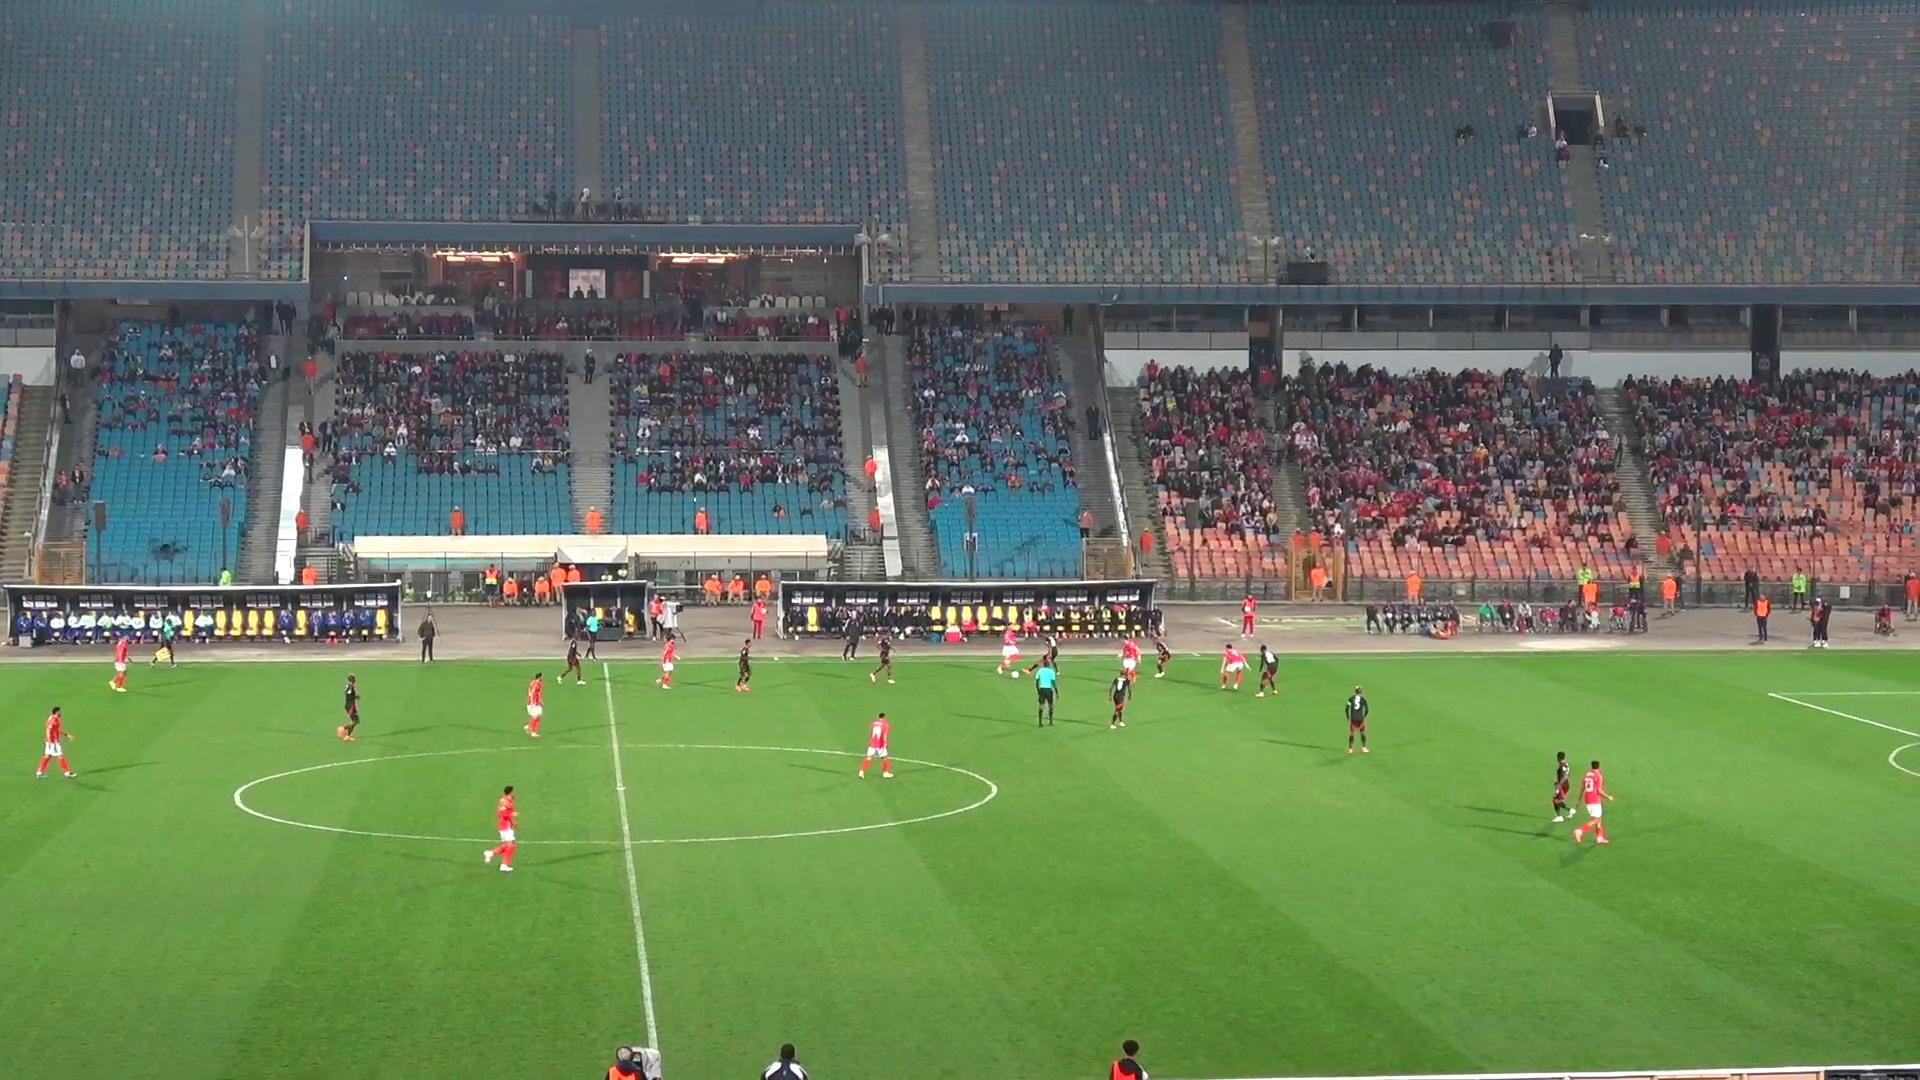Refree: (1026, 655, 1058, 727), (153, 611, 178, 665)
Team1: (1571, 760, 1610, 843), (483, 785, 517, 872), (34, 707, 76, 775), (858, 712, 893, 777), (524, 673, 545, 737), (1220, 642, 1249, 688), (996, 625, 1021, 676), (655, 636, 679, 688), (108, 638, 131, 692), (1117, 636, 1143, 680)
Team2: (1549, 752, 1576, 820), (556, 640, 596, 684), (1344, 686, 1370, 752), (335, 673, 360, 741), (1105, 671, 1134, 729), (1255, 645, 1280, 694), (870, 634, 895, 682), (733, 640, 753, 692), (1150, 636, 1172, 678)
